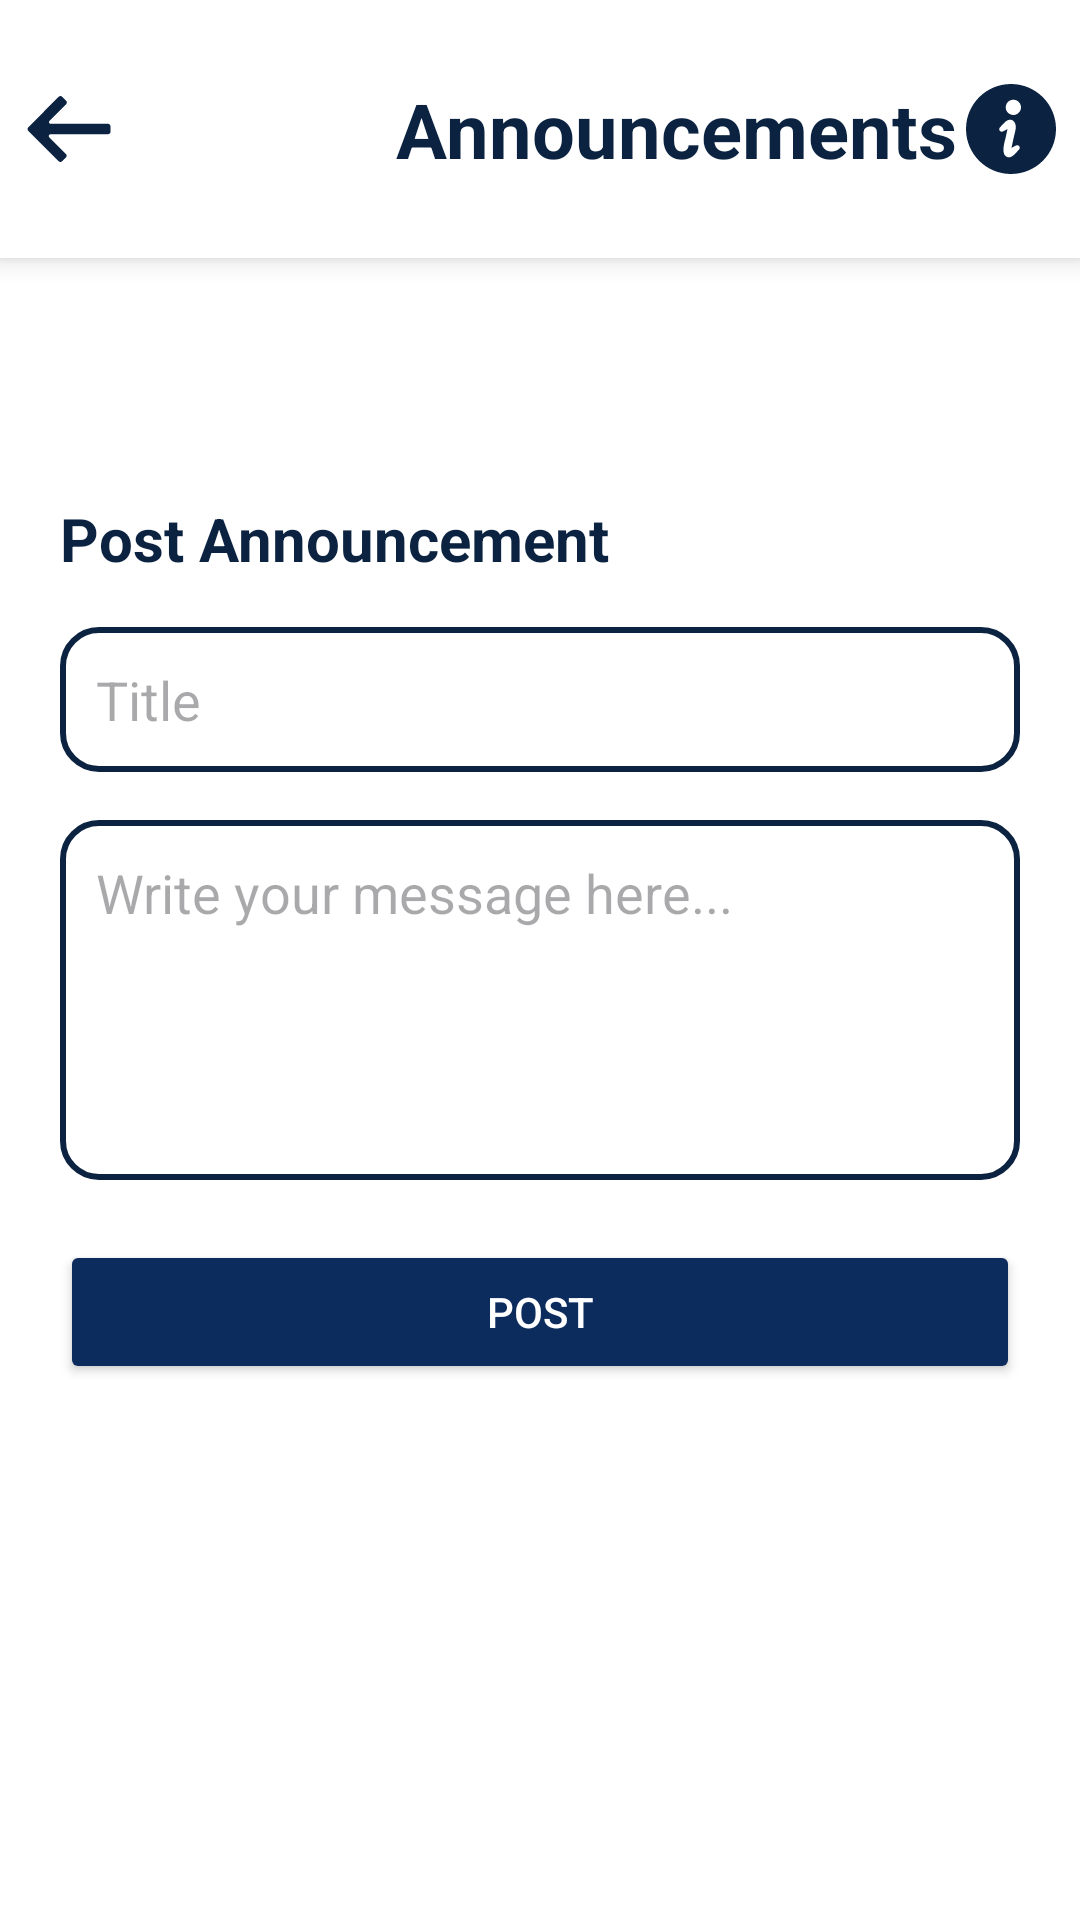

Locate icon controls on the screen. Image size 1080 x 1920, boxes as (x1, y1, x2, y2).
back: (27, 96, 111, 162)
Information: (966, 84, 1056, 174)
